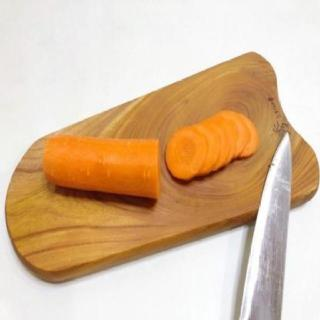carrot: (41, 132, 167, 208)
